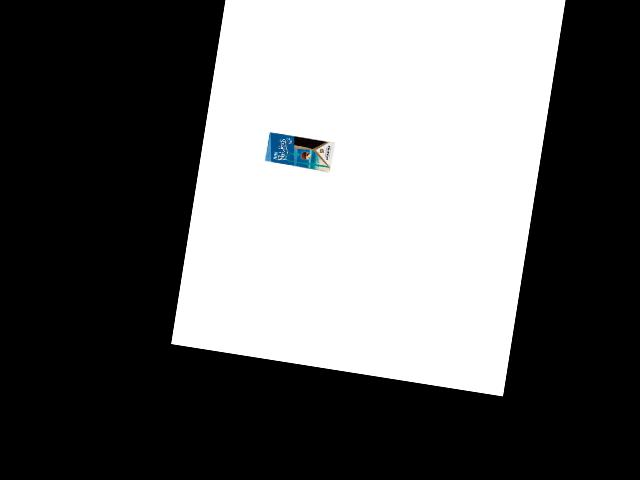chocolate: (263, 130, 337, 173)
